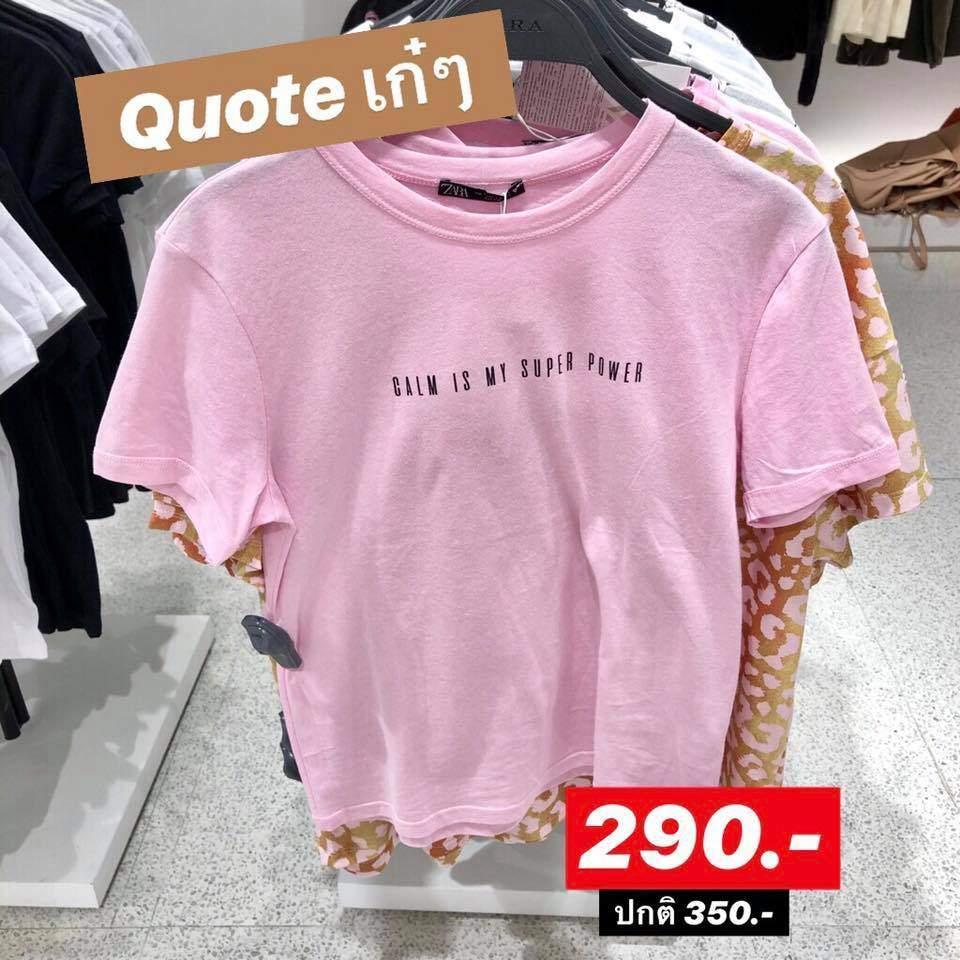Tshirt: (85, 129, 870, 865)
